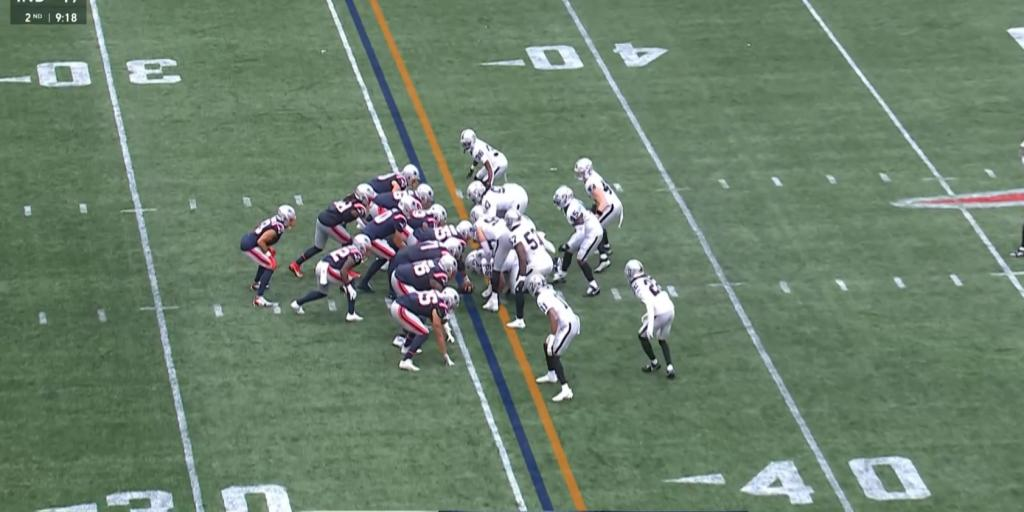player: (291, 234, 371, 321), (290, 189, 368, 277), (392, 287, 460, 376), (504, 209, 553, 328), (625, 259, 674, 377), (552, 186, 604, 296), (409, 219, 476, 294), (364, 200, 415, 298), (240, 205, 294, 296), (537, 287, 579, 401), (472, 208, 513, 317), (574, 158, 621, 229), (389, 257, 458, 295), (461, 129, 507, 185), (388, 239, 462, 271), (467, 182, 528, 217), (361, 164, 418, 199), (371, 186, 441, 212), (406, 205, 449, 232), (596, 231, 610, 272), (369, 207, 394, 214)
